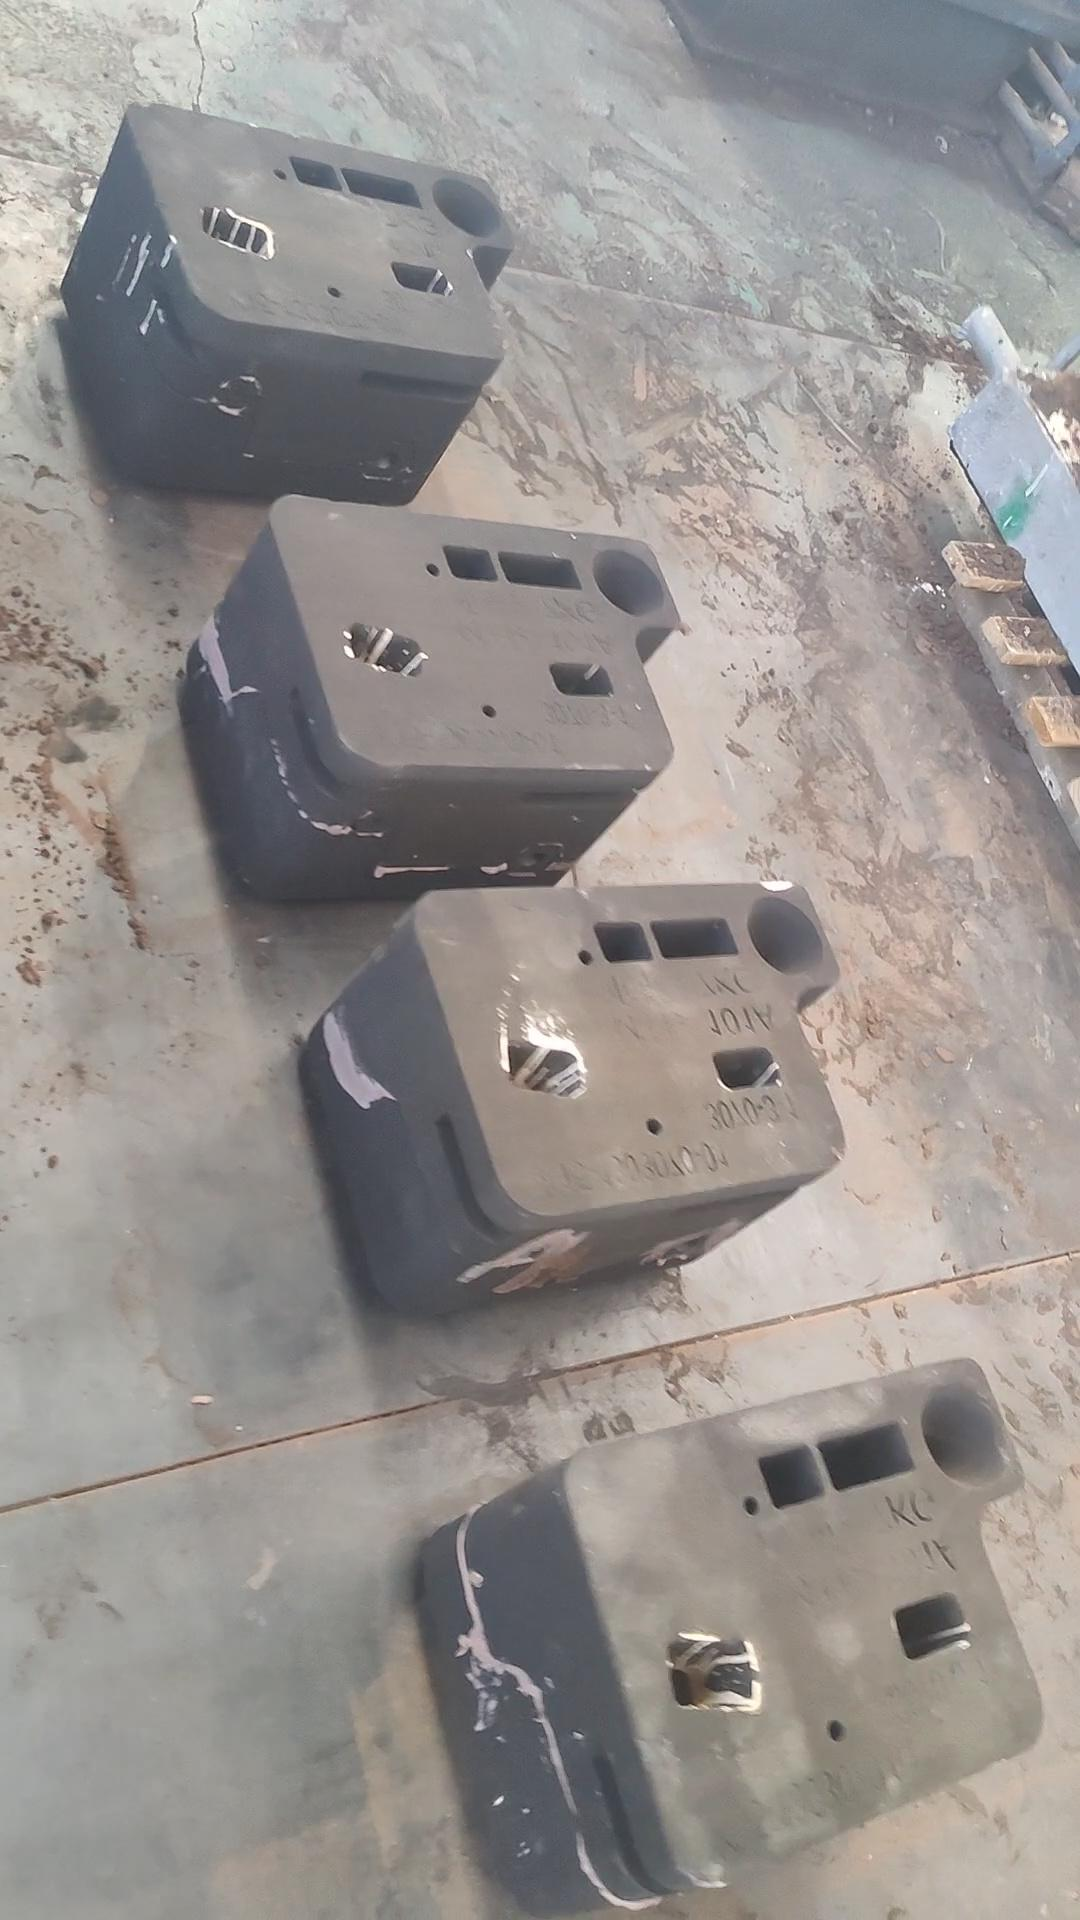pouring hole: (920, 1387, 1011, 1487), (746, 895, 823, 976), (592, 550, 663, 615), (431, 177, 498, 240)
